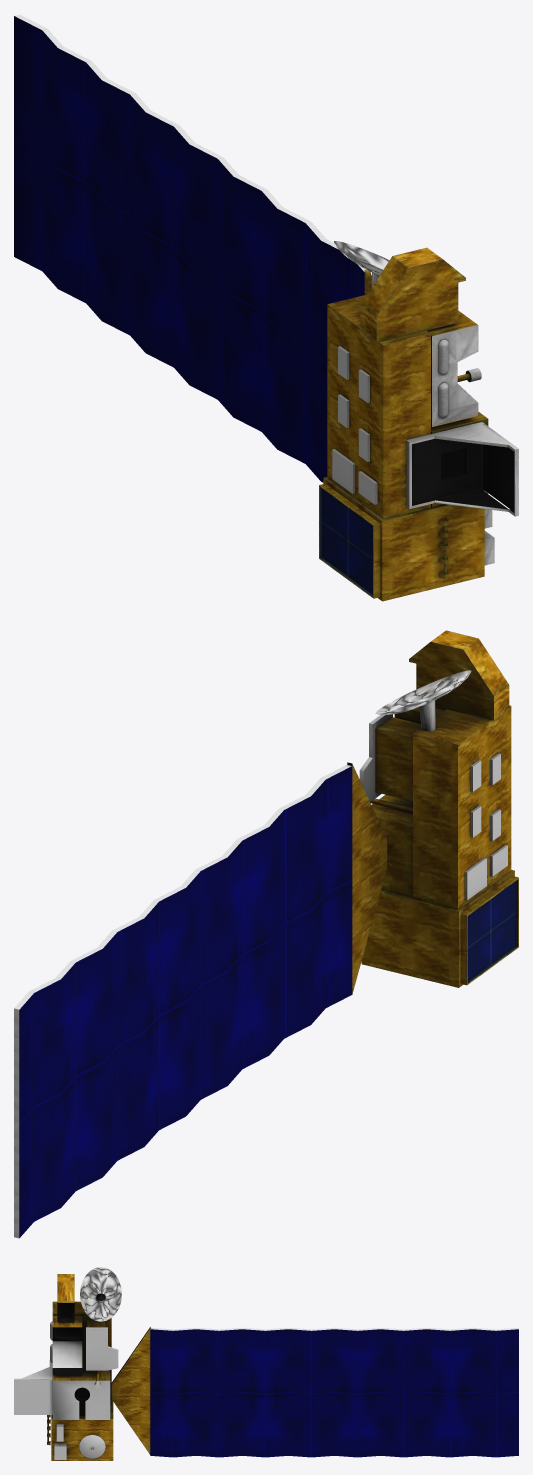
File: aura.glb
3 views of the same model, one above another, from view 1: azimuth 30°, elevation 25°; view 2: azimuth 150°, elevation 25°; view 3: azimuth 270°, elevation 25° (orthographic). The views are drawn at different scales.
Parts seen in each view (by area): view 1: aura_uv.la; view 2: aura_uv.la; view 3: aura_uv.la.
Part boxes in pixels (x1,y1,x2,y2): aura_uv.la: (14,14,518,601); aura_uv.la: (14,630,518,1238); aura_uv.la: (14,1267,518,1460).
Bounding box in the file's own units: 8.98 × 18.99 × 50.82.
8 materials, 8 textured.
